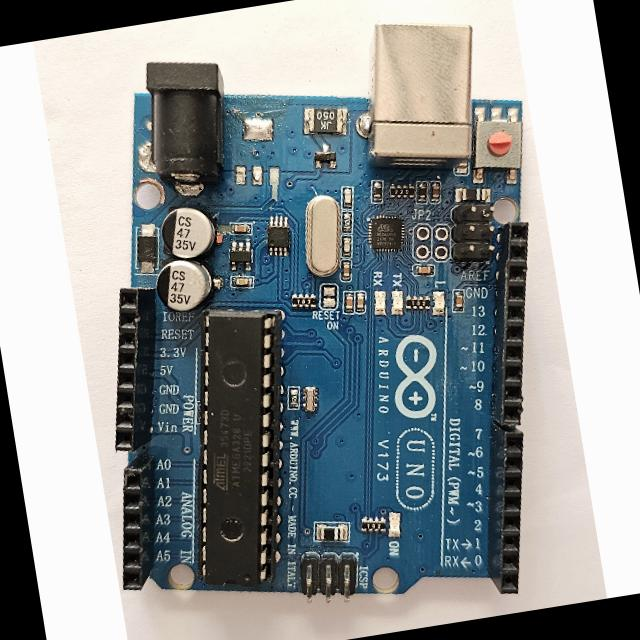missing_voltage_reg: (225, 101, 291, 199)
